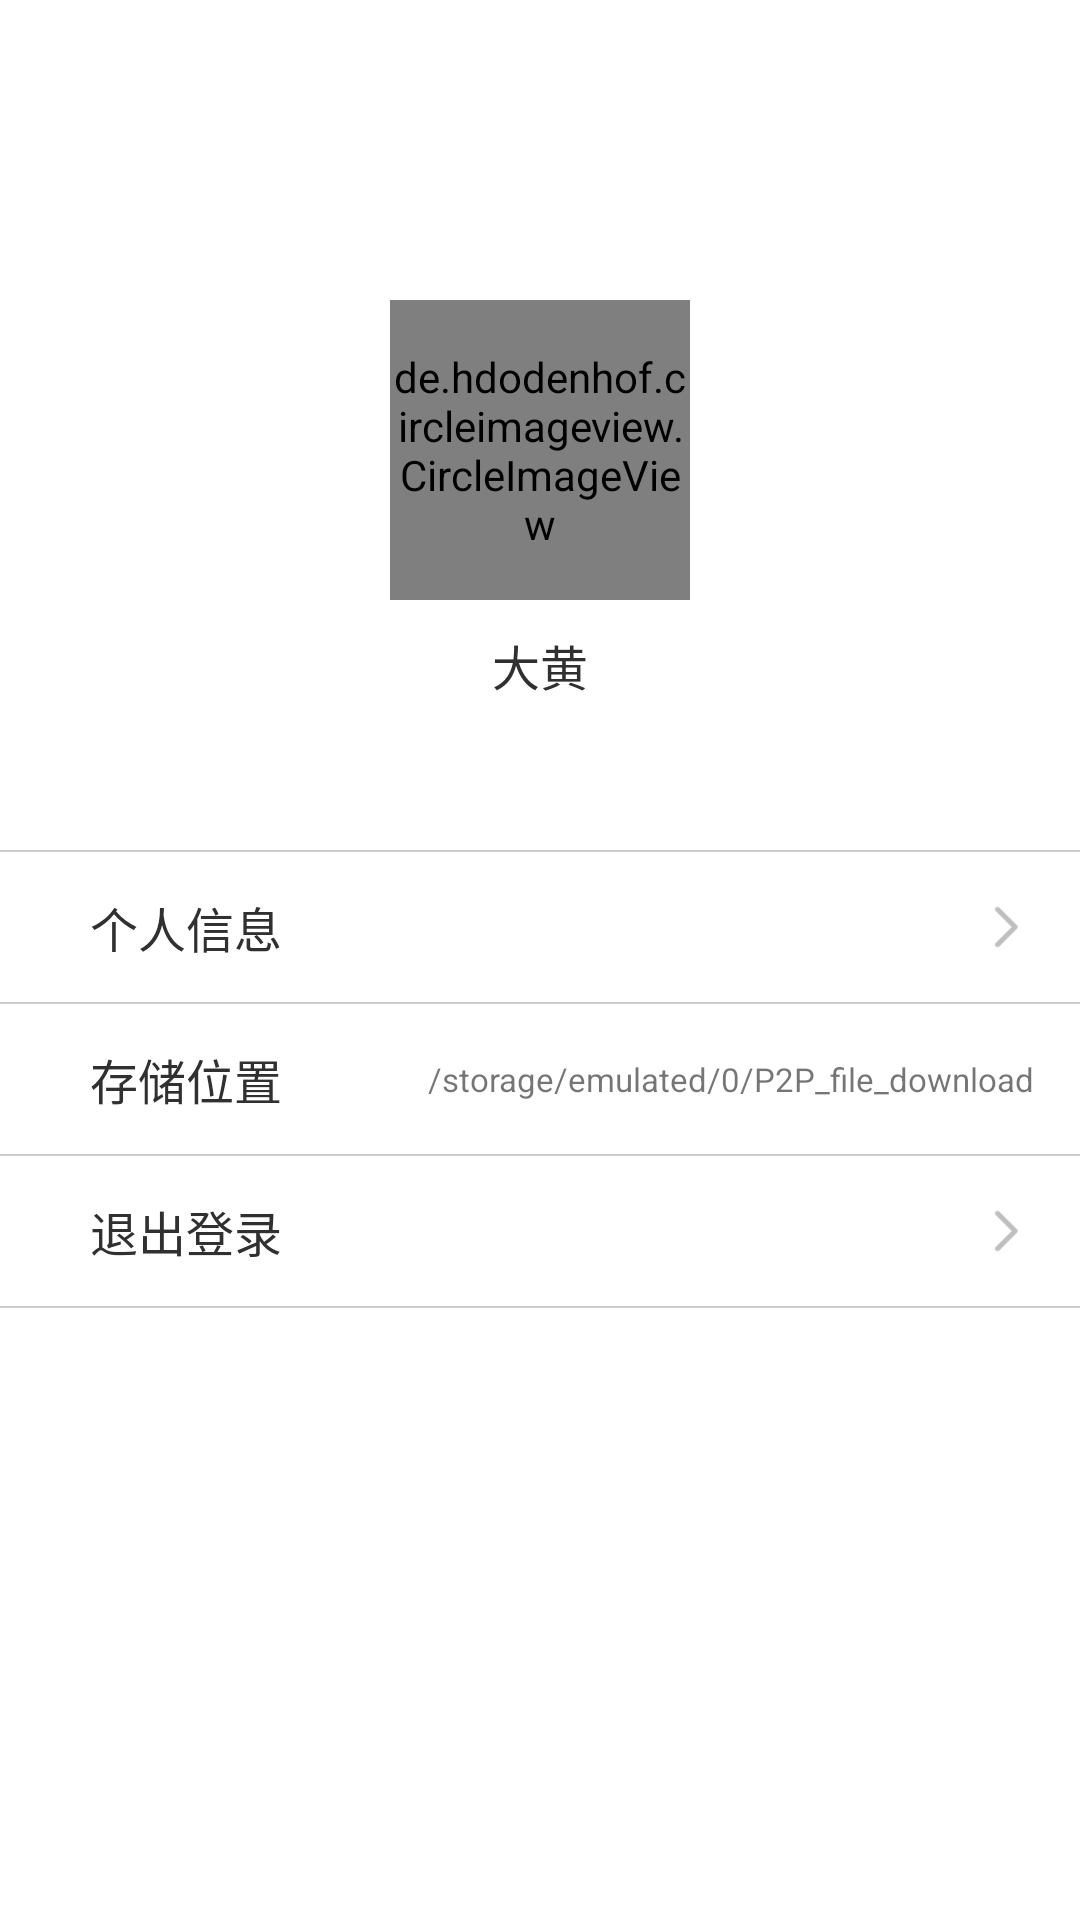

Icon click points for this 1080×1920 phone screenshot, format [x,y]:
enter person item: [1006,927], [1006,1231]
